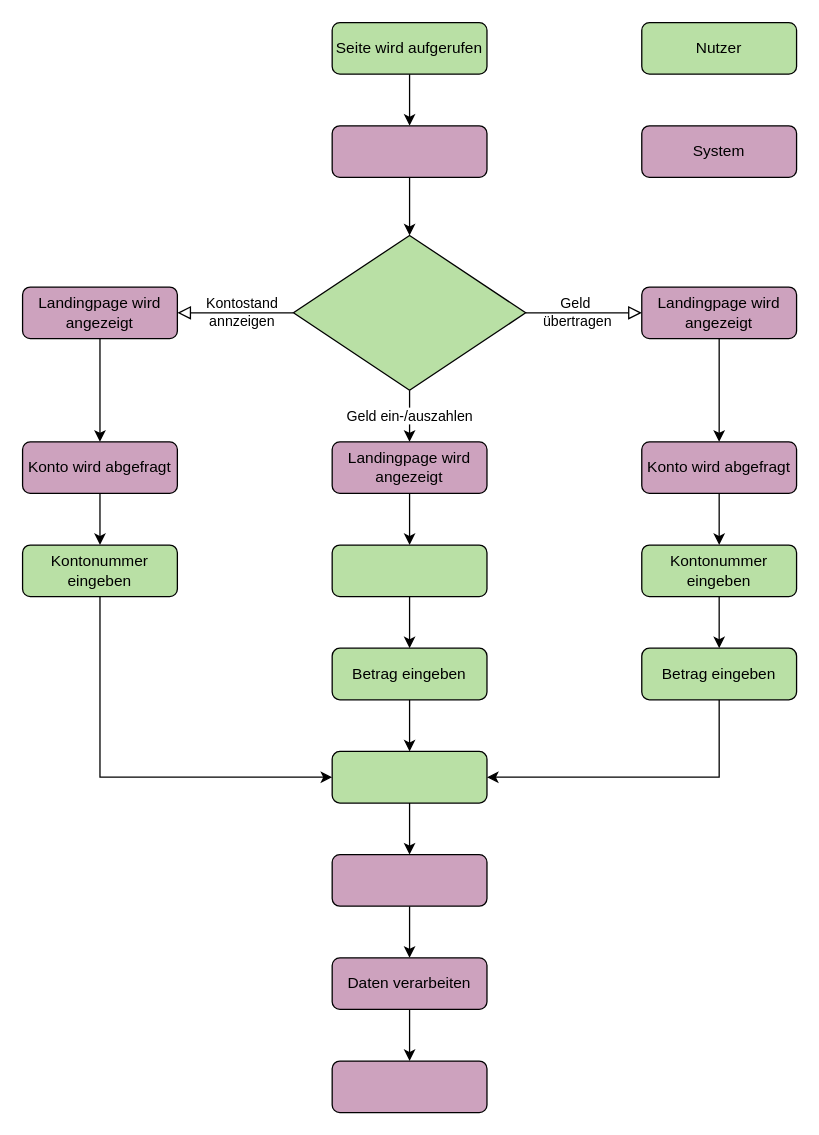
Some shapes in this 819 by 1135 pixel diagram are drawn without their labels. The centre of each missing label's shape, as x and y in pixels:
"Daten an Python übertragen" belongs at (409,879).
"Eingabe bestätigen" belongs at (409,776).
"Kontonummern eingeben" belongs at (409,570).
"Template wird angezeigt" belongs at (409,150).
"Verarbeitete Daten ausgeben" belongs at (409,1086).
"Welche Funktion soll ausgeführt werden?" belongs at (409,312).
